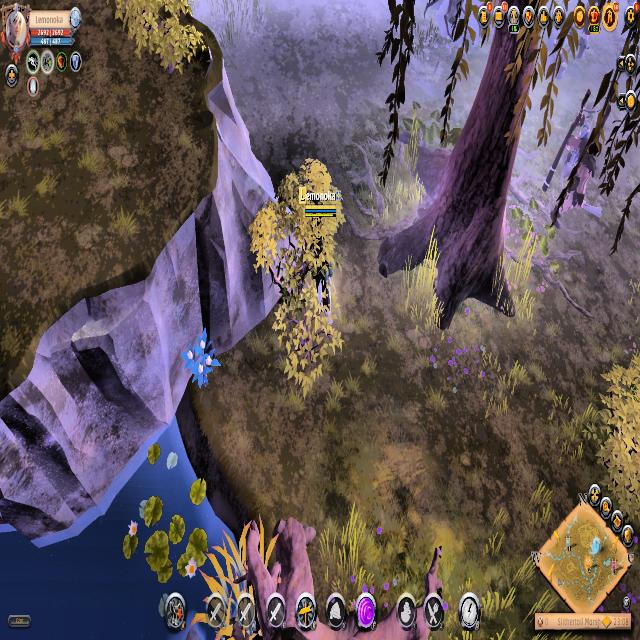fiber tier 4: (180, 322, 222, 393)
